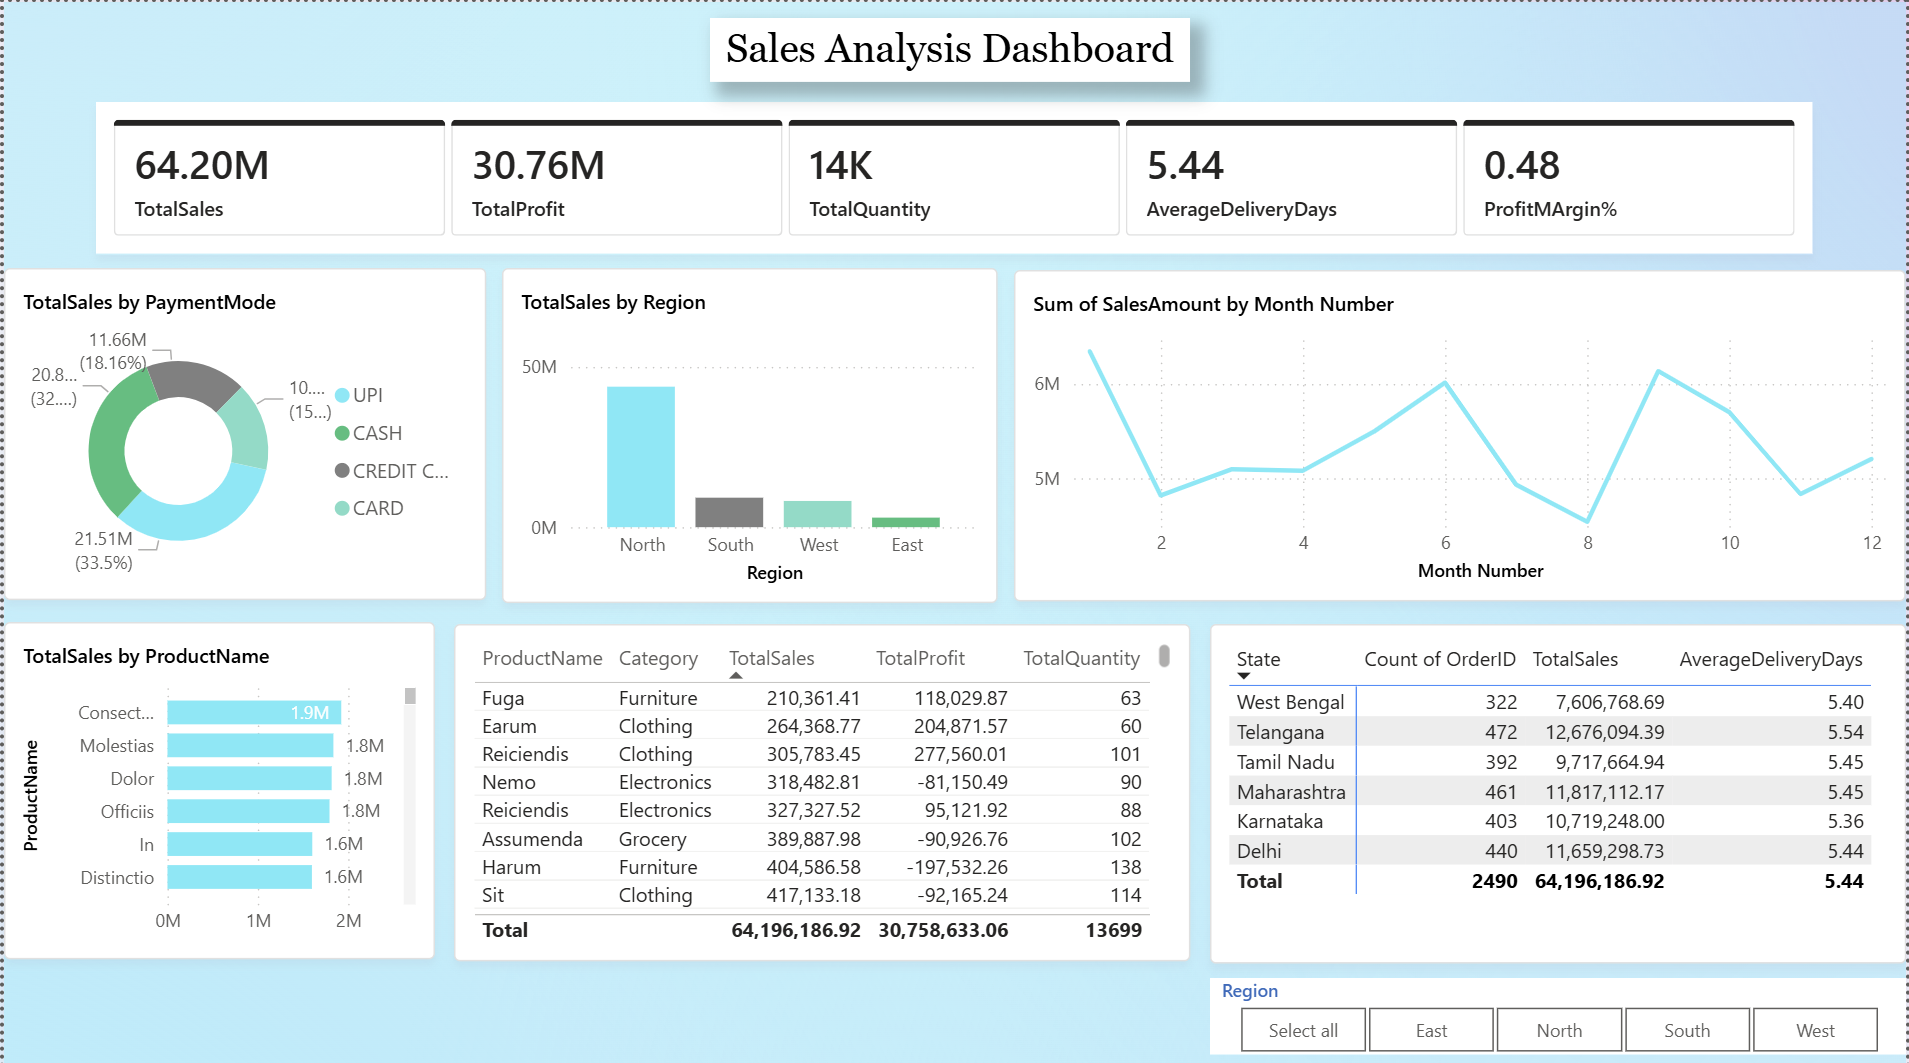

What the dashboard file says about the page in this screenshot:
{"tool":"powerbi","page":{"name":"Page 1","canvas":[1280,720],"ordinal":0},"visuals":[{"type":"donutChart","fields":{"Category":["FactSales.PaymentMode"],"Y":["FactSales.TotalSales"]},"box":[0,179.5,324.7,223.3],"z":4002},{"type":"columnChart","fields":{"Category":["DimStore.Region"],"Y":["FactSales.TotalSales"]},"box":[334.9,179.4,333.3,225.4],"z":4003},{"type":"lineChart","fields":{"Category":["DimDate.Month Number"],"Y":["Sum(FactSales.SalesAmount)"]},"box":[680,180,600,222.9],"z":4005},{"type":"clusteredBarChart","fields":{"Category":["DimProduct.ProductName"],"Y":["FactSales.TotalSales"]},"box":[0,417.1,290,227.1],"z":4006},{"type":"cardVisual","fields":{"Data":["FactSales.TotalSales","FactSales.TotalProfit","FactSales.TotalQuantity","FactSales.AverageDeliveryDays","FactSales.ProfitMArgin%"]},"box":[62.5,66.7,1155.6,102.8],"z":4007},{"type":"textbox","box":[475.7,11.4,322.9,42.9],"z":4008},{"type":"tableEx","fields":{"Values":["DimProduct.ProductName","DimProduct.Category","FactSales.TotalSales","FactSales.TotalProfit","FactSales.TotalQuantity"]},"box":[302.9,418.6,495.7,227.1],"z":4009},{"type":"pivotTable","fields":{"Rows":["DimCustomer.State"],"Values":["CountNonNull(FactSales.OrderID)","FactSales.TotalSales","FactSales.AverageDeliveryDays"]},"box":[811.4,418.6,468.6,228.6],"z":4010},{"type":"slicer","fields":{"Values":["DimStore.Region"]},"box":[811.4,657.1,468.6,51.4],"z":4011}]}

Visuals, with their boxes in screenshot pixels (x1, y1, x2, y2), scaled from the page's 1280x720 canvas onto the 1909x1063 screenshot:
donutChart - FactSales.PaymentMode x FactSales.TotalSales: [x1=0, y1=265, x2=484, y2=595]
columnChart - DimStore.Region x FactSales.TotalSales: [x1=499, y1=265, x2=997, y2=598]
lineChart - DimDate.Month Number x Sum(FactSales.SalesAmount): [x1=1014, y1=266, x2=1908, y2=595]
clusteredBarChart - DimProduct.ProductName x FactSales.TotalSales: [x1=0, y1=616, x2=433, y2=951]
cardVisual - FactSales.TotalSales x FactSales.TotalProfit: [x1=93, y1=98, x2=1817, y2=250]
textbox: [x1=709, y1=17, x2=1191, y2=80]
tableEx - DimProduct.ProductName x DimProduct.Category: [x1=452, y1=618, x2=1191, y2=953]
pivotTable - DimCustomer.State x CountNonNull(FactSales.OrderID): [x1=1210, y1=618, x2=1908, y2=956]
slicer - DimStore.Region: [x1=1210, y1=970, x2=1908, y2=1046]
